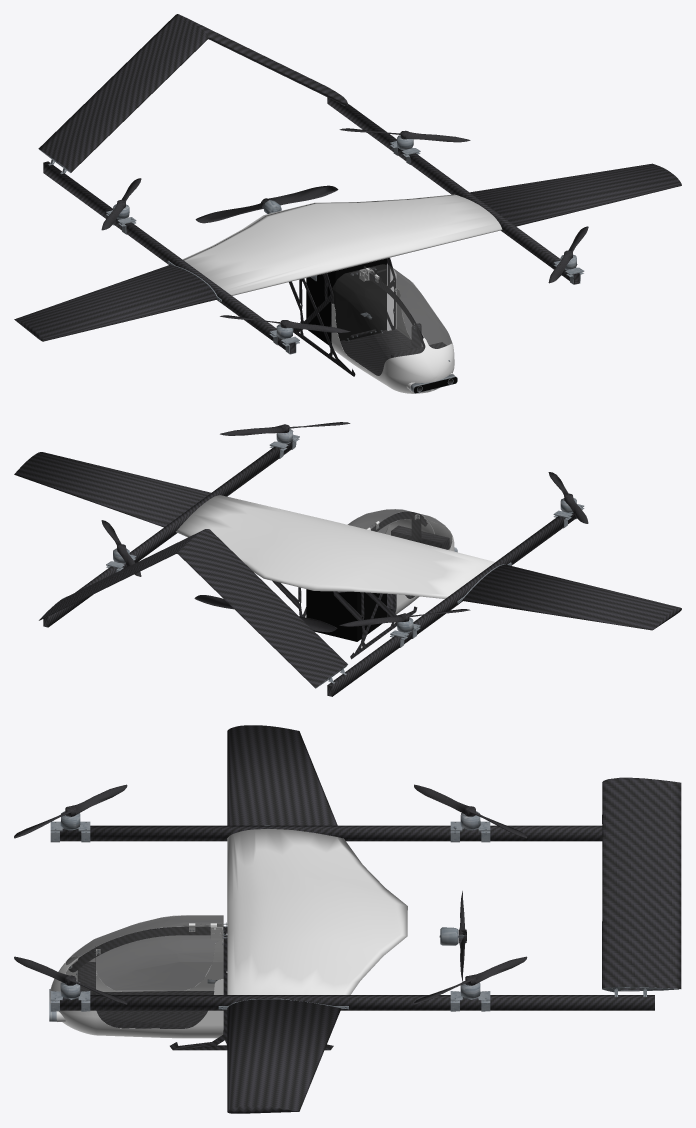
The model's file is comp.glb.
3 views of the same model, one above another, from view 1: azimuth 30°, elevation 25°; view 2: azimuth 150°, elevation 25°; view 3: azimuth 270°, elevation 25° (orthographic). The views are drawn at different scales.
Visible parts, largest first — view 1: Apogee Consolidated v40.091, Apogee Consolidated v40.109, Apogee Consolidated v40.002, window, sys-bay blocked, Apogee Consolidated v40.084, Apogee Consolidated v40.008, Apogee Consolidated v40.073, Apogee Consolidated v40.085, Apogee Consolidated v40.090, Apogee Consolidated v40.103, Apogee Consolidated v40.016 (+4 smaller); view 2: Apogee Consolidated v40.091, Apogee Consolidated v40.109, Apogee Consolidated v40.002, Apogee Consolidated v40.073, Apogee Consolidated v40.008, sys-bay blocked, window, Apogee Consolidated v40.090, Apogee Consolidated v40.084, Apogee Consolidated v40.085, Apogee Consolidated v40.016, Apogee Consolidated v40.103 (+4 smaller); view 3: Apogee Consolidated v40.091, Apogee Consolidated v40.109, Apogee Consolidated v40.002, window, Apogee Consolidated v40.008, Apogee Consolidated v40.073, Apogee Consolidated v40.084, Apogee Consolidated v40.085, Apogee Consolidated v40.016, Apogee Consolidated v40.094, Apogee Consolidated v40.004, Apogee Consolidated v40.007 (+6 smaller).
Boxes of the visible parts, <box> form: Apogee Consolidated v40.091: <box>182,194,502,295</box>; Apogee Consolidated v40.109: <box>14,163,681,341</box>; Apogee Consolidated v40.002: <box>38,14,347,172</box>; window: <box>332,264,452,375</box>; sys-bay blocked: <box>306,258,386,345</box>; Apogee Consolidated v40.084: <box>331,268,454,393</box>; Apogee Consolidated v40.008: <box>327,97,579,337</box>; Apogee Consolidated v40.073: <box>43,161,295,353</box>; Apogee Consolidated v40.085: <box>342,329,446,375</box>; Apogee Consolidated v40.090: <box>289,273,355,376</box>; Apogee Consolidated v40.103: <box>195,185,338,223</box>; Apogee Consolidated v40.016: <box>113,135,577,361</box>; Apogee Consolidated v40.091: <box>176,495,495,598</box>; Apogee Consolidated v40.109: <box>14,452,681,630</box>; Apogee Consolidated v40.002: <box>39,529,347,688</box>; Apogee Consolidated v40.073: <box>327,513,576,696</box>; Apogee Consolidated v40.008: <box>43,442,292,627</box>; sys-bay blocked: <box>306,589,386,641</box>; window: <box>348,509,452,598</box>; Apogee Consolidated v40.090: <box>333,591,417,659</box>; Apogee Consolidated v40.084: <box>367,514,454,614</box>; Apogee Consolidated v40.085: <box>387,525,449,617</box>; Apogee Consolidated v40.016: <box>113,429,576,632</box>; Apogee Consolidated v40.103: <box>194,595,337,632</box>; Apogee Consolidated v40.091: <box>227,829,407,994</box>; Apogee Consolidated v40.109: <box>227,725,341,1113</box>; Apogee Consolidated v40.002: <box>602,777,681,991</box>; window: <box>65,915,223,1028</box>; Apogee Consolidated v40.008: <box>60,922,654,1010</box>; Apogee Consolidated v40.073: <box>60,825,602,841</box>; Apogee Consolidated v40.084: <box>49,923,223,1038</box>; Apogee Consolidated v40.085: <box>77,962,214,1028</box>; Apogee Consolidated v40.016: <box>60,811,480,998</box>; Apogee Consolidated v40.094: <box>69,926,225,972</box>; Apogee Consolidated v40.004: <box>50,991,490,1011</box>; Apogee Consolidated v40.007: <box>50,821,490,842</box>.
Size of the model in its own units: 25 by 7.75 by 18.53.
13 materials, 9 textured.
